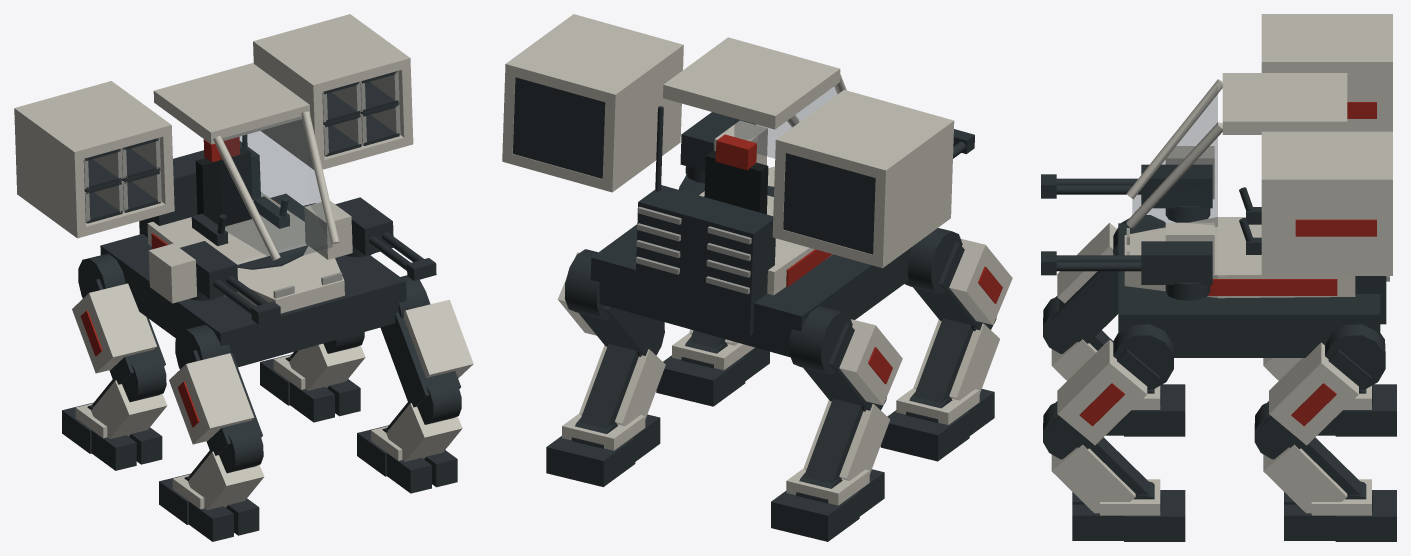
The picture shows the model from 3 angles, left to right: view 1: azimuth 30°, elevation 25°; view 2: azimuth 150°, elevation 25°; view 3: azimuth 270°, elevation 25°; orthographic projection. The views are drawn at different scales.
Parts seen in each view (by area): view 1: mech-torso-painted, mech-silo-left-painted, mech-silo-right-painted, mech-torso-glazing, mech-hip-1-painted, mech-hip-0-painted, mech-hip-3-painted, mech-mg-pitch-left-painted, mech-seat-pilot-painted, mech-mg-pitch-right-painted, mech-knee-0-painted, mech-knee-1-painted (+6 smaller); view 2: mech-torso-painted, mech-silo-left-painted, mech-silo-right-painted, mech-hip-0-painted, mech-hip-1-painted, mech-ankle-2-painted, mech-ankle-0-painted, mech-ankle-1-painted, mech-knee-2-painted, mech-ankle-3-painted, mech-knee-1-painted, mech-knee-0-painted (+4 smaller); view 3: mech-torso-painted, mech-silo-right-painted, mech-silo-left-painted, mech-hip-3-painted, mech-hip-2-painted, mech-mg-pitch-right-painted, mech-torso-glazing, mech-knee-2-painted, mech-knee-3-painted, mech-ankle-3-painted, mech-ankle-2-painted, mech-hip-1-painted (+8 smaller).
Boxes of the visible parts, box(x1,y1,x2,y2) form: mech-torso-painted: box(100, 63, 406, 367); mech-silo-left-painted: box(14, 81, 174, 238); mech-silo-right-painted: box(253, 14, 413, 169); mech-torso-glazing: box(220, 116, 332, 262); mech-hip-1-painted: box(169, 324, 262, 455); mech-hip-0-painted: box(72, 253, 165, 384); mech-hip-3-painted: box(380, 275, 473, 407); mech-mg-pitch-left-painted: box(148, 241, 280, 324); mech-seat-pilot-painted: box(191, 137, 289, 246); mech-mg-pitch-right-painted: box(304, 197, 436, 280); mech-knee-0-painted: box(91, 356, 167, 438); mech-knee-1-painted: box(188, 427, 264, 509); mech-torso-painted: box(590, 37, 912, 357); mech-silo-left-painted: box(772, 90, 954, 268); mech-silo-right-painted: box(502, 14, 683, 192); mech-hip-0-painted: box(789, 306, 902, 410); mech-hip-1-painted: box(905, 228, 1012, 330); mech-ankle-2-painted: box(546, 413, 660, 486); mech-ankle-0-painted: box(771, 468, 884, 541); mech-ankle-1-painted: box(880, 387, 994, 461); mech-knee-2-painted: box(579, 322, 665, 429); mech-ankle-3-painted: box(656, 333, 769, 406); mech-knee-1-painted: box(913, 316, 999, 403); mech-knee-0-painted: box(803, 397, 890, 483); mech-torso-painted: box(1118, 73, 1389, 357); mech-silo-right-painted: box(1261, 131, 1392, 275); mech-silo-left-painted: box(1261, 14, 1392, 131); mech-hip-3-painted: box(1051, 324, 1173, 449); mech-hip-2-painted: box(1263, 324, 1385, 449); mech-mg-pitch-right-painted: box(1041, 222, 1214, 284); mech-torso-glazing: box(1132, 86, 1217, 228); mech-knee-2-painted: box(1254, 402, 1361, 513); mech-knee-3-painted: box(1043, 402, 1149, 513); mech-ankle-3-painted: box(1072, 479, 1185, 541); mech-ankle-2-painted: box(1284, 479, 1396, 541); mech-hip-1-painted: box(1051, 215, 1165, 343).
Size of the model in its own units: 17.33 by 17.13 by 14.45.
